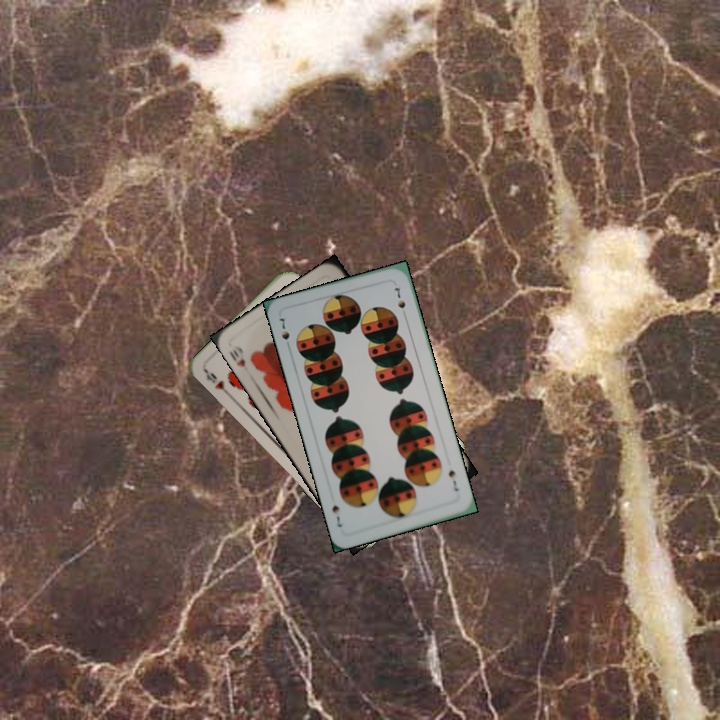H10: (225, 342, 248, 370)
H9: (201, 366, 234, 399)
S7: (275, 314, 294, 352), (444, 466, 461, 494)
